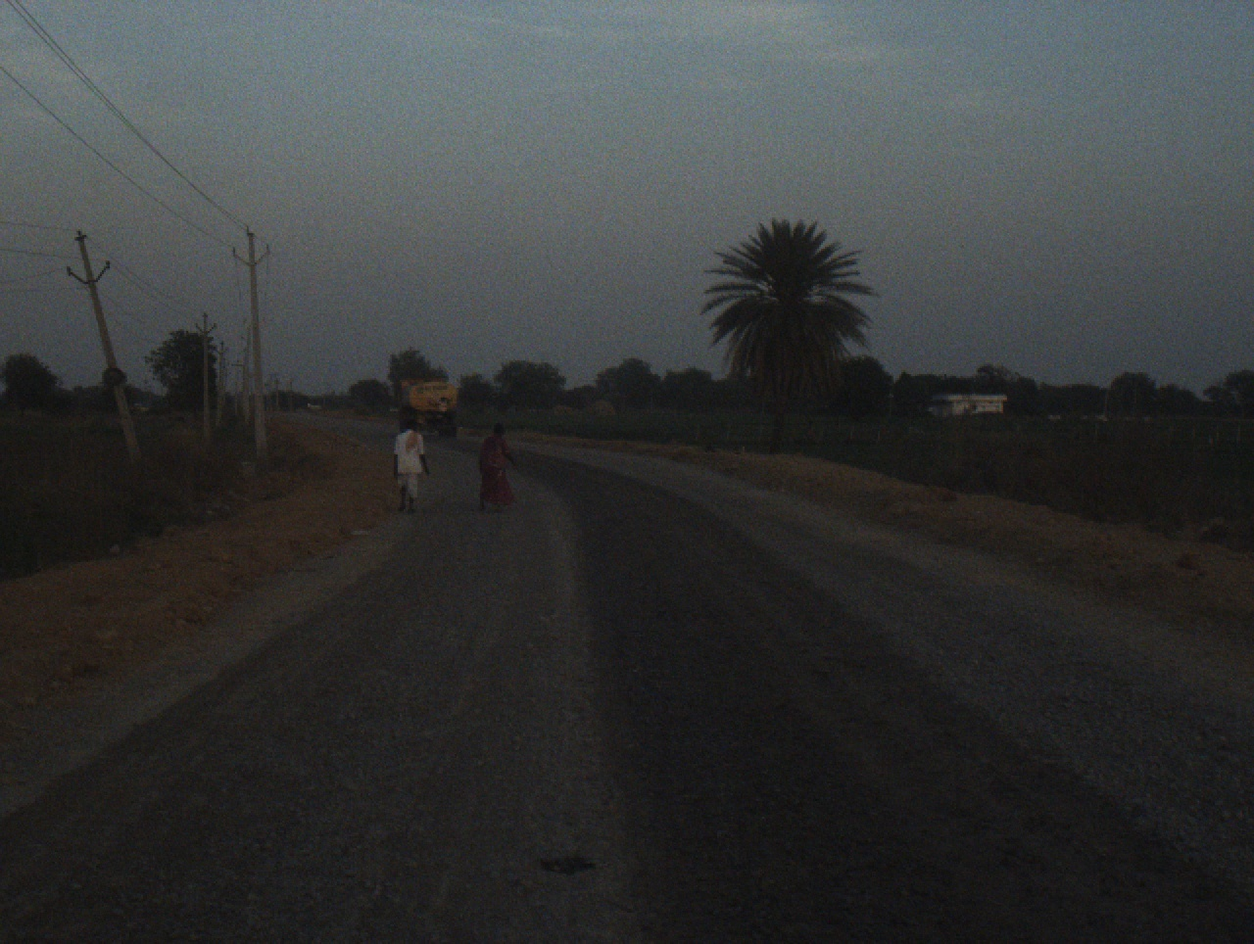person: (474, 416, 526, 522), (390, 413, 431, 526)
rider: (435, 392, 446, 418)
truck: (388, 374, 461, 442)
